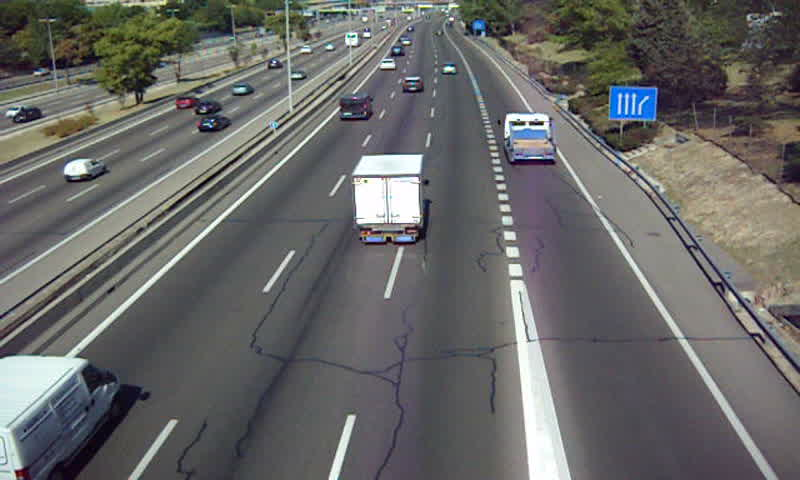car: (400, 76, 425, 96), (378, 57, 396, 73), (442, 62, 458, 74)
small-truck: (354, 154, 426, 244), (503, 113, 555, 162)
van: (1, 355, 118, 480), (338, 94, 371, 121)
